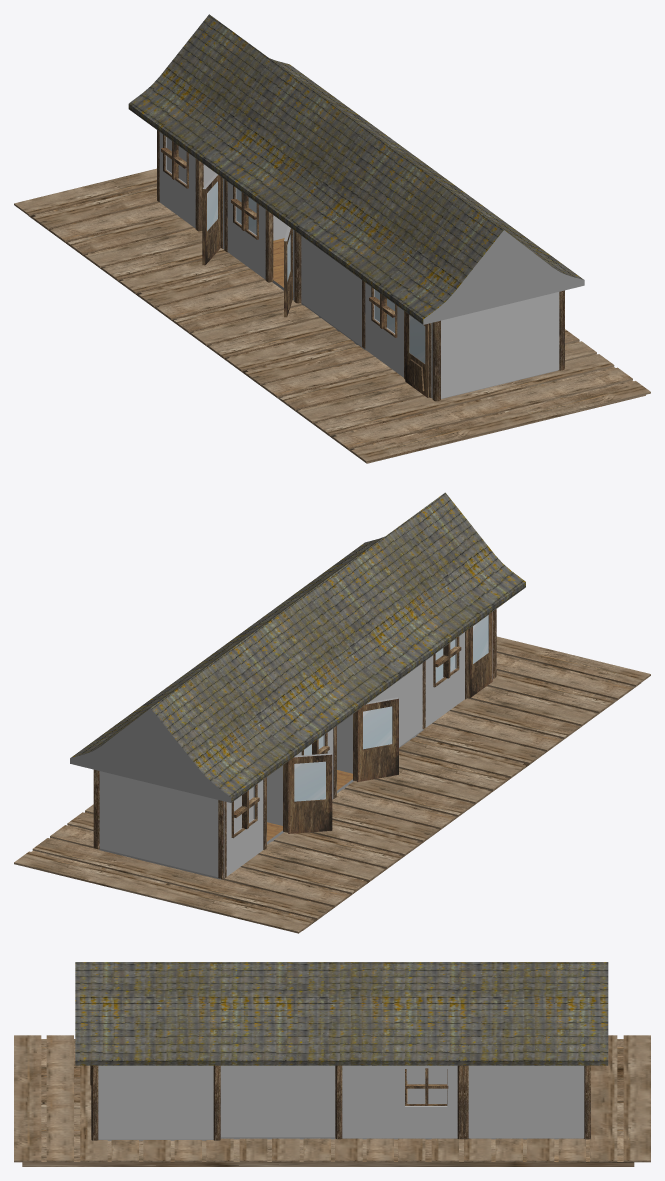
Rendered from Bates_hotel.fbx.
3 views of the same model, one above another, from view 1: azimuth 30°, elevation 25°; view 2: azimuth 150°, elevation 25°; view 3: azimuth 270°, elevation 25° (orthographic). The views are drawn at different scales.
Parts seen in each view (by area): view 1: polySurface87, polySurface108, polySurface23, polySurface52, polySurface54, polySurface59, polySurface13, pCube22, polySurface69, polySurface86, polySurface67, polySurface72; view 2: polySurface87, polySurface108, pCube14, polySurface23, polySurface52, pCube22, polySurface72, polySurface13, polySurface54, polySurface86, pCube16, polySurface66 (+2 smaller); view 3: polySurface87, polySurface108, polySurface23, pCube17, polySurface64, polySurface52, polySurface63, polySurface82, polySurface60, polySurface10, polySurface76, polySurface12.
Part boxes in pixels (x1,y1,x2,y2): polySurface87: [128, 14, 584, 324]; polySurface108: [14, 168, 650, 462]; polySurface23: [365, 282, 564, 401]; polySurface52: [29, 185, 645, 463]; polySurface54: [301, 236, 361, 346]; polySurface59: [227, 182, 294, 300]; polySurface13: [159, 132, 224, 249]; pCube22: [202, 173, 220, 265]; polySurface69: [231, 186, 258, 239]; polySurface86: [161, 134, 188, 188]; polySurface67: [265, 210, 292, 299]; polySurface72: [284, 226, 293, 317]; polySurface87: [70, 492, 525, 802]; polySurface108: [14, 636, 650, 933]; pCube14: [99, 771, 218, 877]; polySurface23: [425, 609, 496, 727]; polySurface52: [31, 653, 640, 930]; pCube22: [288, 753, 332, 833]; polySurface72: [357, 697, 398, 781]; polySurface13: [223, 780, 263, 878]; polySurface54: [369, 663, 422, 746]; polySurface86: [231, 784, 259, 838]; pCube16: [267, 765, 282, 825]; polySurface66: [337, 714, 352, 773]; polySurface87: [75, 962, 608, 1065]; polySurface108: [14, 1035, 650, 1162]; polySurface23: [90, 1065, 220, 1140]; pCube17: [468, 1065, 584, 1138]; polySurface64: [221, 1065, 335, 1137]; polySurface52: [22, 1039, 634, 1166]; polySurface63: [342, 1065, 457, 1138]; polySurface82: [405, 1068, 448, 1105]; polySurface60: [335, 1065, 342, 1139]; polySurface10: [584, 1065, 590, 1139]; polySurface76: [457, 1065, 463, 1139]; polySurface12: [463, 1065, 468, 1139].
Bounding box in the file's own units: 14.03 × 8.09 × 30.08.
